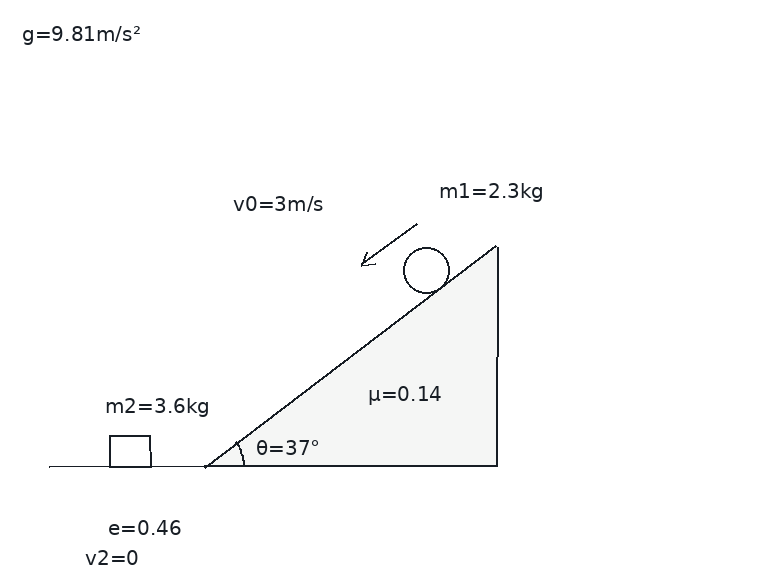ball: (401, 245, 451, 295)
block: (107, 433, 153, 468)
ramp: (202, 244, 498, 468)
